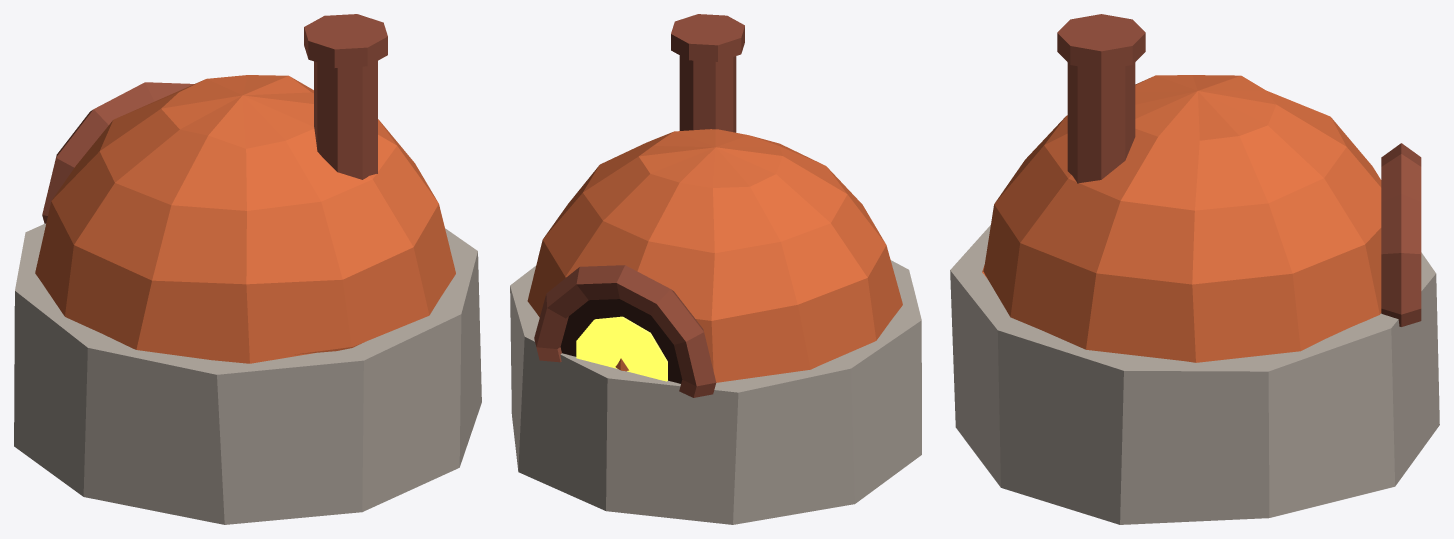
The model's file is PizzaOven.fbx.
3 renders of one model, left to right at view 1: azimuth 30°, elevation 25°; view 2: azimuth 150°, elevation 25°; view 3: azimuth 270°, elevation 25°, orthographic. The views are drawn at different scales.
Visible parts, largest first — view 1: Dome, Stone, Chimney, Arch; view 2: Stone, Dome, Arch, Chimney, Glow, Mouth; view 3: Dome, Stone, Chimney, Arch.
Part boxes in pixels (left/top/right/bottom): Dome: left=35, top=75, right=455, bottom=363; Stone: left=14, top=223, right=481, bottom=524; Chimney: left=304, top=14, right=387, bottom=179; Arch: left=42, top=82, right=193, bottom=223; Stone: left=510, top=260, right=921, bottom=524; Dome: left=527, top=129, right=902, bottom=382; Arch: left=534, top=265, right=716, bottom=397; Chimney: left=671, top=14, right=744, bottom=132; Glow: left=576, top=316, right=667, bottom=381; Mouth: left=560, top=299, right=682, bottom=383; Dome: left=982, top=75, right=1381, bottom=362; Stone: left=950, top=225, right=1439, bottom=524; Chimney: left=1057, top=14, right=1145, bottom=183; Arch: left=1381, top=143, right=1421, bottom=326.
Size of the model in its own units: 4.44 by 4.44 by 4.65.
